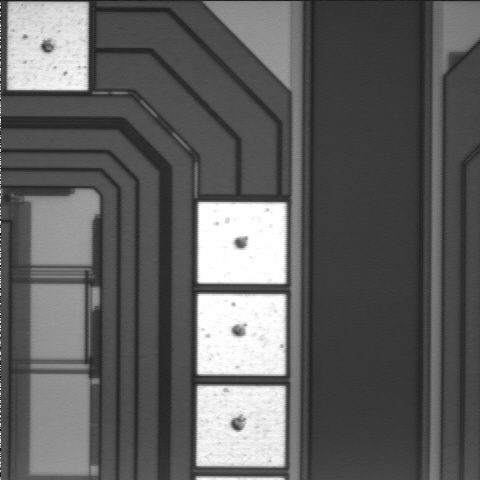pad: (197, 294, 286, 376), (198, 202, 286, 284), (7, 2, 88, 90), (197, 386, 285, 467)
